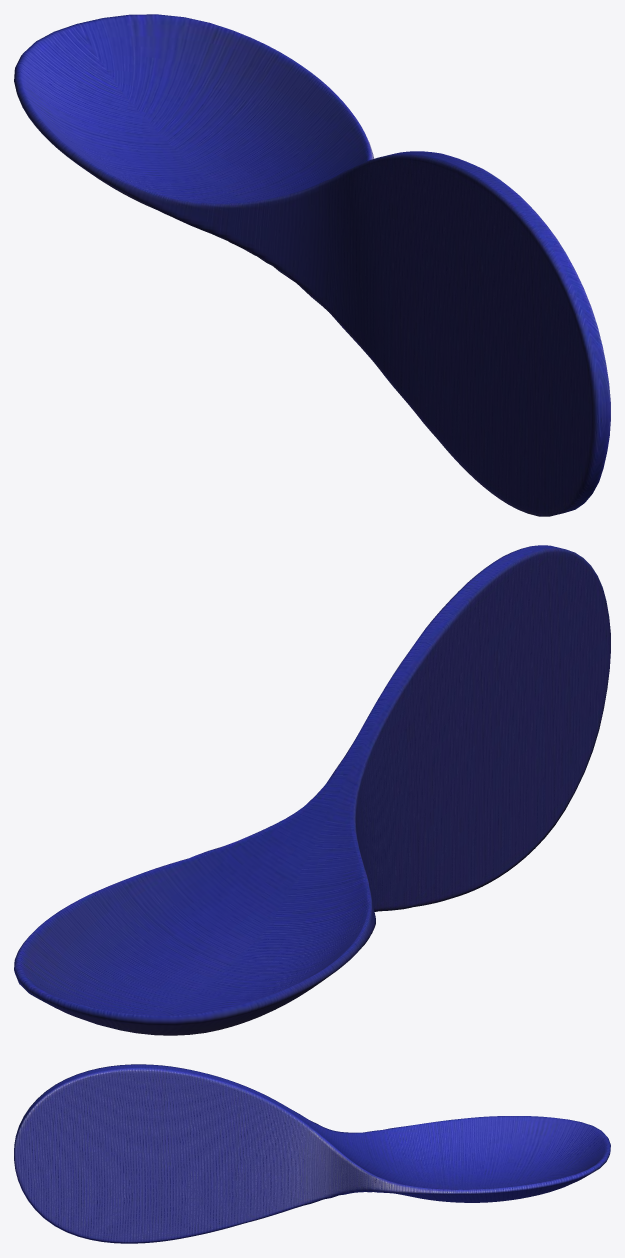
The model's file is 14_Propeller.glb.
The picture shows the model from 3 angles, top to bottom: view 1: azimuth 30°, elevation 25°; view 2: azimuth 150°, elevation 25°; view 3: azimuth 270°, elevation 25°; orthographic projection. The views are drawn at different scales.
Visible parts, largest first — view 1: 14_Propeller; view 2: 14_Propeller; view 3: 14_Propeller.
Part boxes in pixels (x1=…): 14_Propeller: x1=14, y1=14, x2=610, y2=516; 14_Propeller: x1=14, y1=545, x2=610, y2=1035; 14_Propeller: x1=14, y1=1064, x2=610, y2=1243.
Bounding box in the file's own units: 0.0353 × 0.0388 × 0.12.
Materials: 1 (1 with a texture image).
